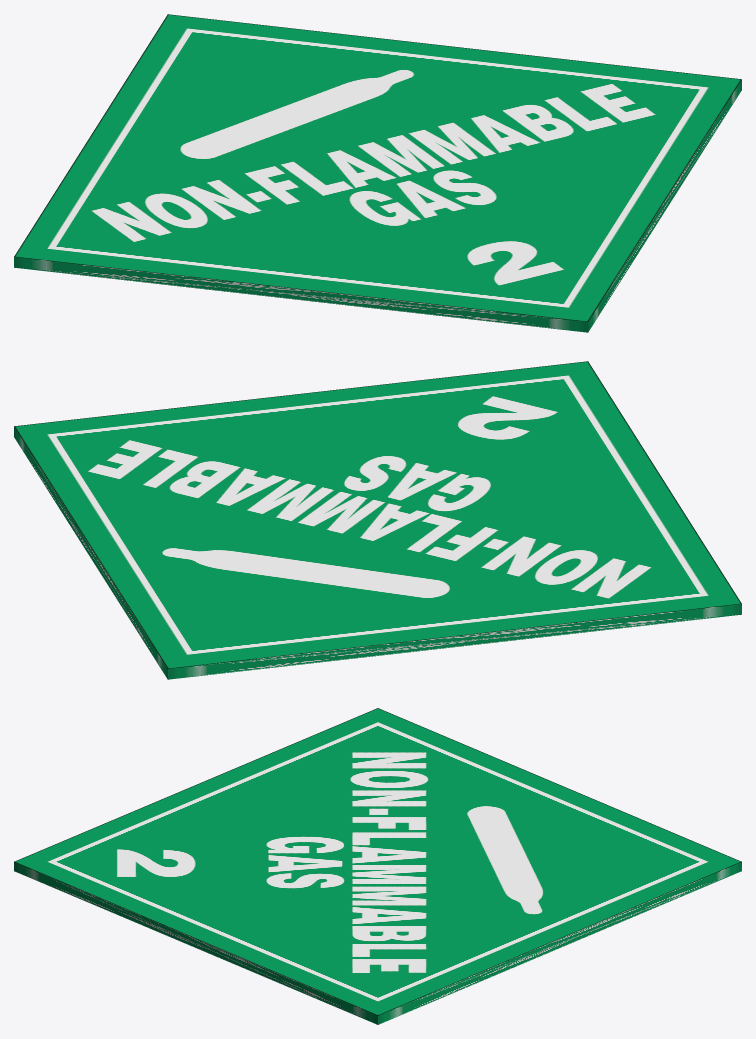
The model's file is hazmat_non-flammable-gas.dae.
3 views of the same model, one above another, from view 1: azimuth 30°, elevation 25°; view 2: azimuth 150°, elevation 25°; view 3: azimuth 270°, elevation 25° (orthographic). The views are drawn at different scales.
Visible parts, largest first — view 1: Sign_Material.011; view 2: Sign_Material.011; view 3: Sign_Material.011.
Part boxes in pixels (left/top/right/bottom): Sign_Material.011: left=14, top=14, right=741, bottom=332; Sign_Material.011: left=14, top=361, right=741, bottom=679; Sign_Material.011: left=14, top=708, right=741, bottom=1024.
Size of the model in its own units: 0.1414 by 0.1414 by 0.002.
1 material, 1 textured.
